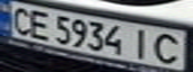3: (84, 19, 106, 52)
4: (103, 21, 130, 56)
5: (51, 12, 75, 45)
9: (66, 16, 90, 50)
C: (148, 30, 187, 65), (3, 3, 36, 36)
E: (24, 8, 54, 41)
I: (127, 26, 157, 61)
